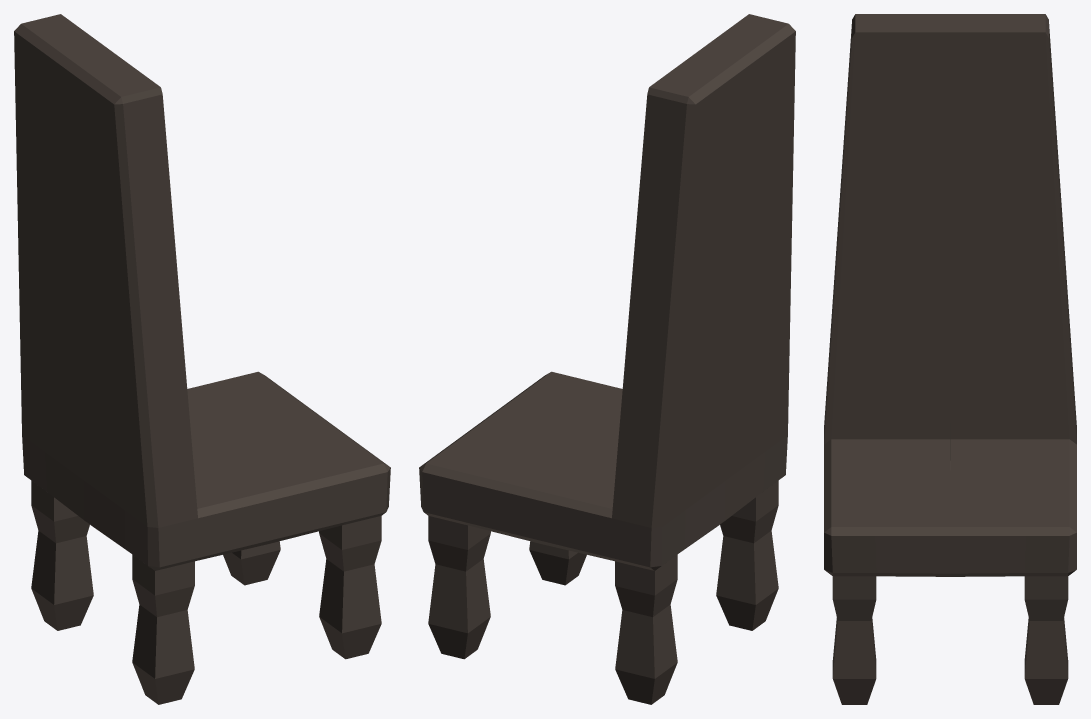
File: Chair.obj
3 views of the same model, side by side, from view 1: azimuth 30°, elevation 25°; view 2: azimuth 150°, elevation 25°; view 3: azimuth 270°, elevation 25° (orthographic). The views are drawn at different scales.
Visible parts, largest first — view 1: Desk_Cube.001; view 2: Desk_Cube.001; view 3: Desk_Cube.001.
Boxes of the visible parts, x1,y1,x2,y2 form: Desk_Cube.001: [14, 14, 390, 704]; Desk_Cube.001: [419, 14, 795, 704]; Desk_Cube.001: [824, 14, 1076, 704].
Size of the model in its own units: 1.99 by 4.4 by 1.74.
